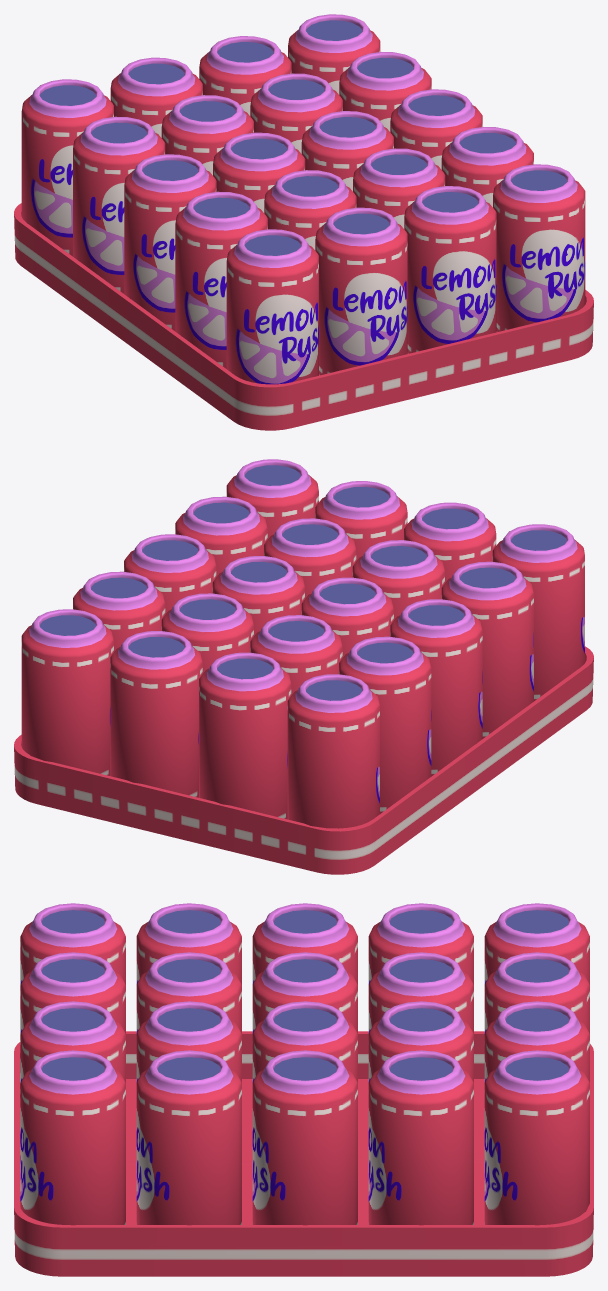
The model's file is Soda_Lemon_Rush_x20.fbx.
3 renders of one model, top to bottom at view 1: azimuth 30°, elevation 25°; view 2: azimuth 150°, elevation 25°; view 3: azimuth 270°, elevation 25°, orthographic. The views are drawn at different scales.
Parts seen in each view (by area): view 1: Soda_01; view 2: Soda_01; view 3: Soda_01.
Boxes of the visible parts, x1,y1,x2,y2 form: Soda_01: [14, 14, 593, 430]; Soda_01: [14, 459, 593, 874]; Soda_01: [14, 903, 593, 1276].
Size of the model in its own units: 38.22 by 16.95 by 47.75.
1 material, 1 textured.
